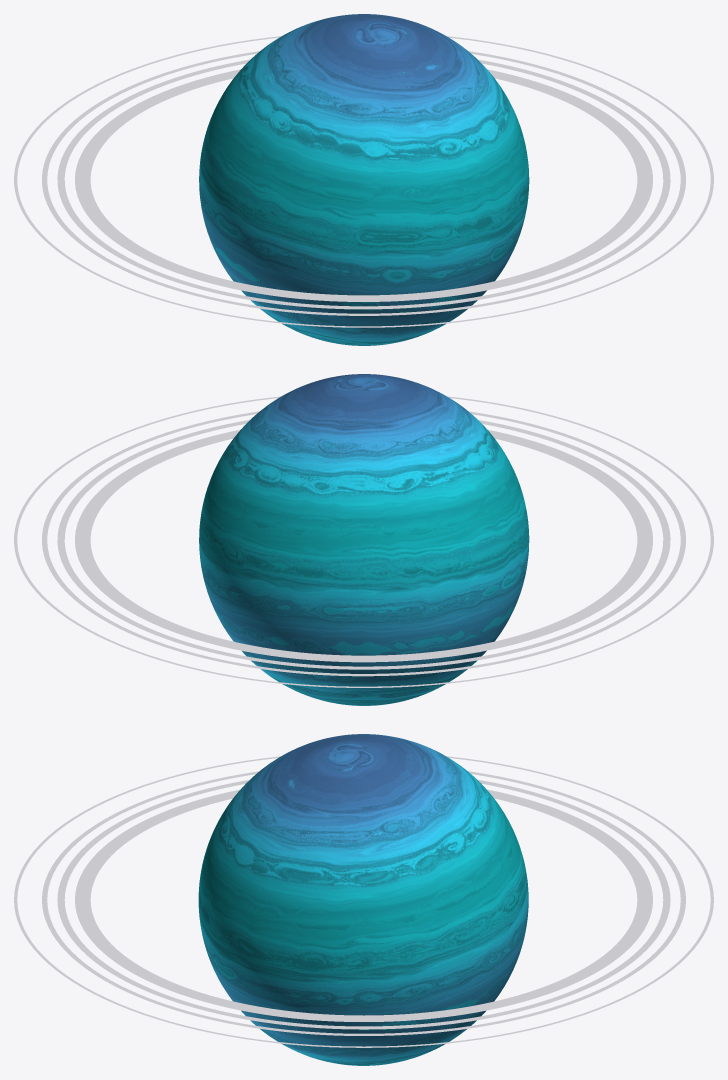
File: uran.glb
3 renders of one model, top to bottom at view 1: azimuth 30°, elevation 25°; view 2: azimuth 150°, elevation 25°; view 3: azimuth 270°, elevation 25°, orthographic.
Parts seen in each view (by area): view 1: Sphere.006, Sphere.007; view 2: Sphere.006, Sphere.007; view 3: Sphere.006, Sphere.007.
Part boxes in pixels (<box>): Sphere.006: <box>199,14,529,345</box>; Sphere.007: <box>14,36,713,327</box>; Sphere.006: <box>199,374,529,705</box>; Sphere.007: <box>14,396,713,687</box>; Sphere.006: <box>198,734,528,1065</box>; Sphere.007: <box>14,756,713,1047</box>.
Bounding box in the file's own units: 2.31 × 1.1 × 2.31.
Materials: 2 (1 with a texture image).
